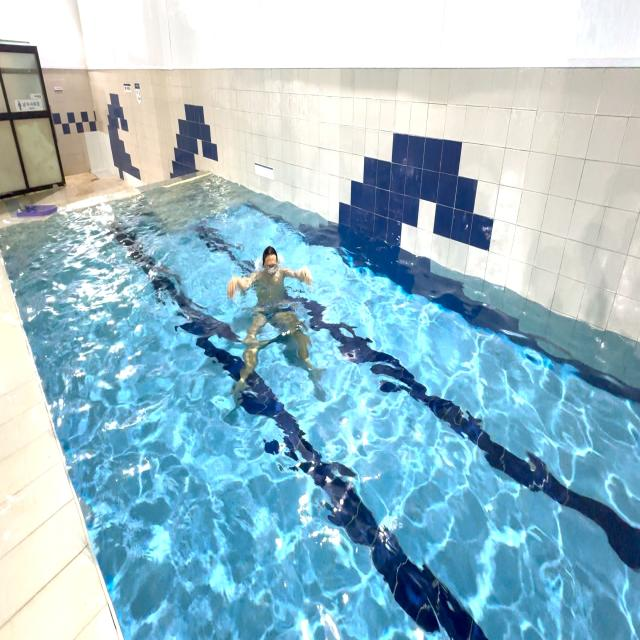Drowning: (218, 227, 326, 407)
